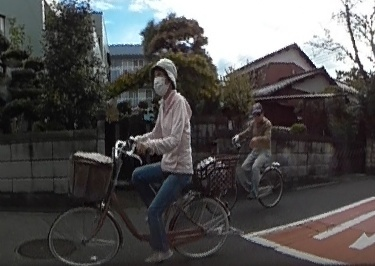person: (143, 55, 192, 245), (242, 100, 272, 191)
